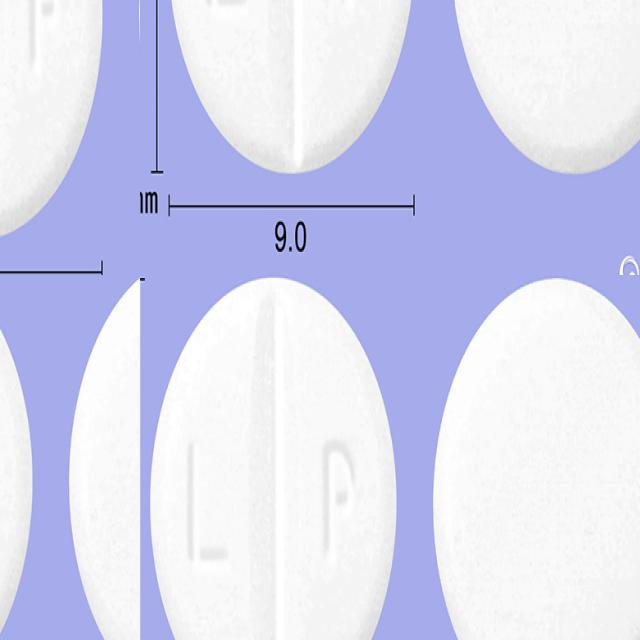Flori: (72, 275, 140, 640), (0, 275, 32, 640)
Isentress: (0, 0, 140, 238)
Lamisil: (149, 275, 400, 640), (431, 279, 640, 640)
Rp Levofloxacin Tab: (263, 0, 458, 275)
